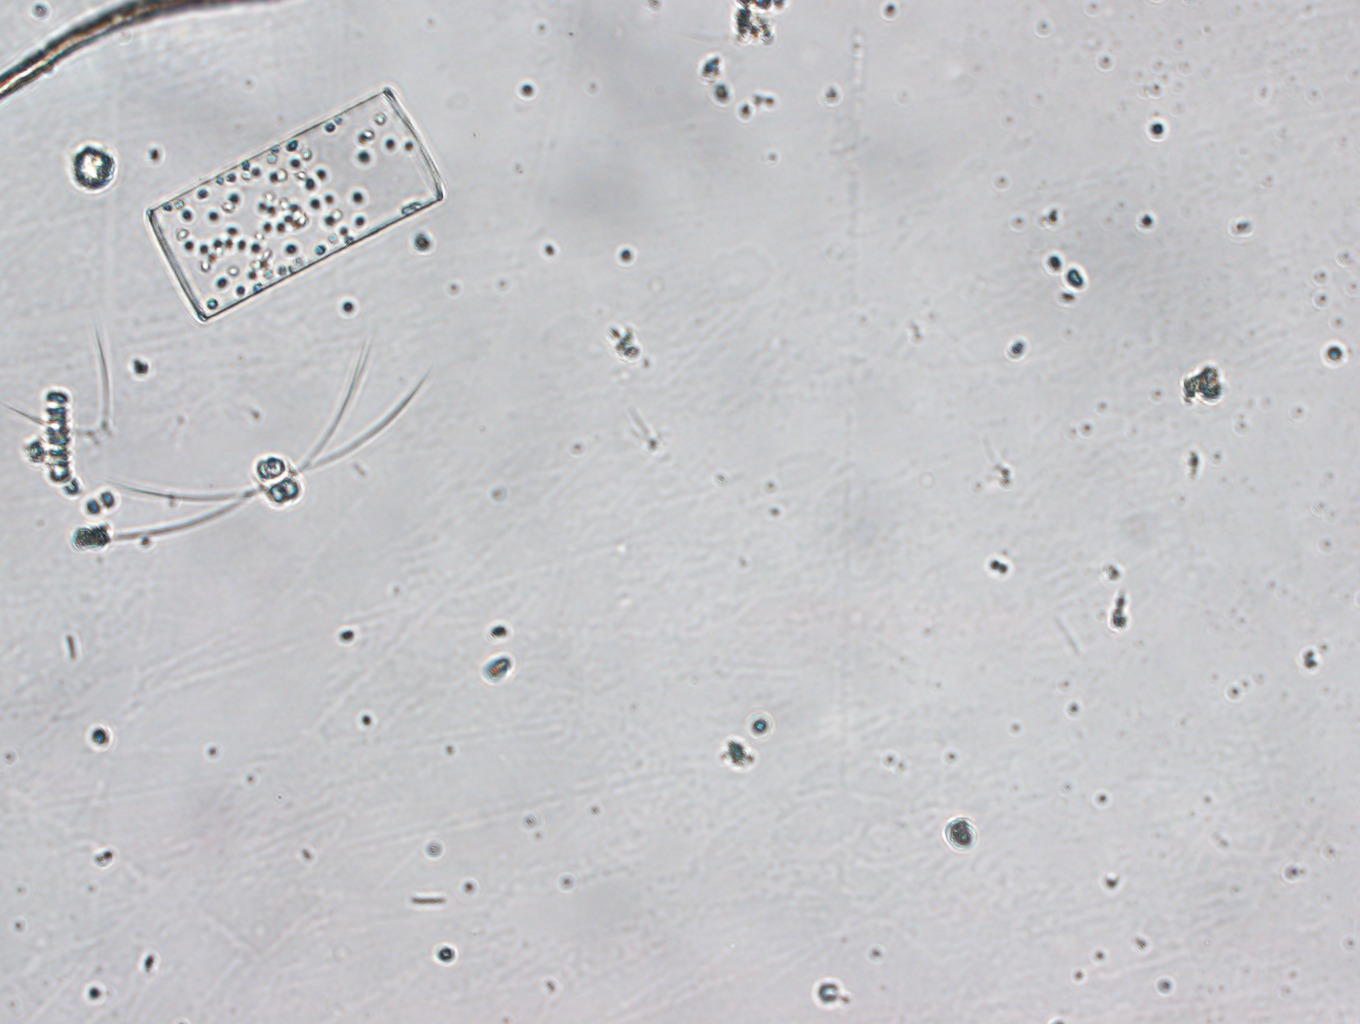chaetoceros: (80, 349, 432, 554)
guinardia flaccida: (139, 79, 455, 325)
